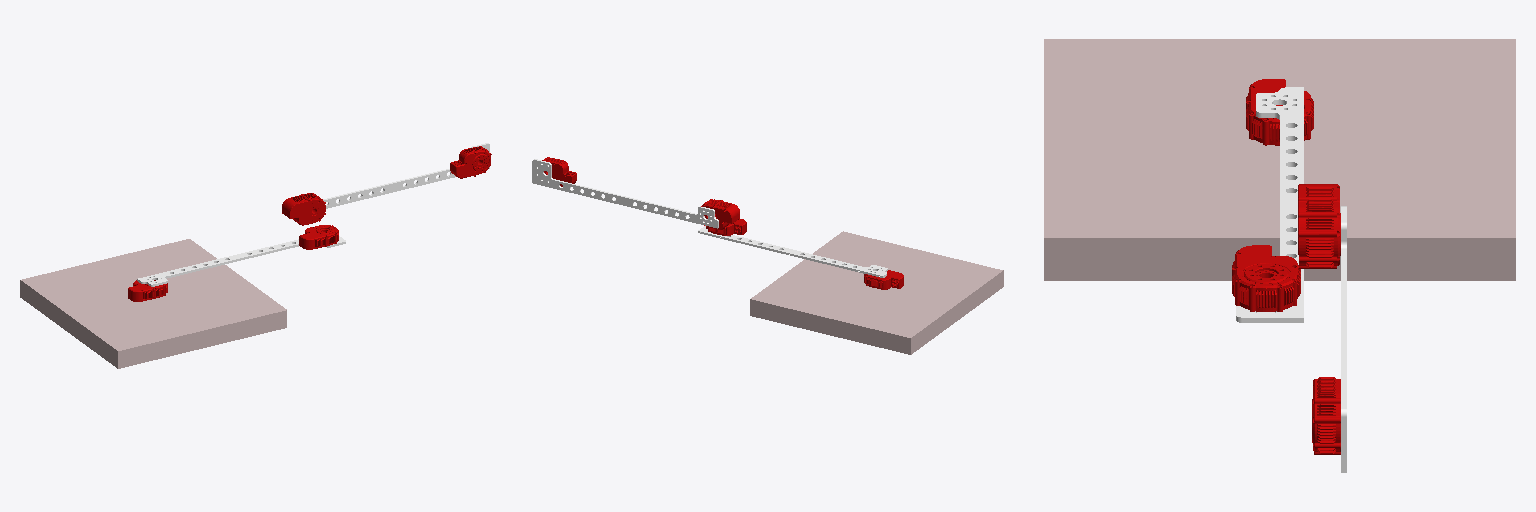
URDF robot description (arm):
<?xml version="1.0"?>

<robot name="arm">
  
  <!-- *************************************************** -->
  <!-- ******************** Kinematics ******************* -->
  <!-- *************************************************** -->
  <!-- Note the 'origin' tag in the fixed joints defines the shift and
       reorientation before the continuous joint rotates around the
       axis.  For shift distances see below. -->

  <link name="world"/>


  <joint name="connect-world-motor0base" type="fixed">
    <parent link="world"/>
    <child  link="motor0base"/>
    <origin xyz="0 0 0.00635" rpy="0 0 0"/>
  </joint>

  <link name="motor0base"/>

  <joint name="Red/7" type="continuous">
    <parent link="motor0base"/>
    <child  link="motor0output"/>
    <origin xyz="0 0 0.03105"/>
    <axis   xyz="0 0 1"/>
  </joint>

  <link name="motor0output"> </link>


  <joint name="connect-motor0output-motor1base" type="fixed">
    <parent link="motor0output"/>
    <child  link="motor1base"/>
    <origin xyz="0.49848 -0.01447 0.00635" rpy="0 0 0"/>
  </joint>

  <link name="motor1base"/>

  <joint name="Red/5" type="continuous">
    <parent link="motor1base"/>
    <child  link="motor1output"/>
    <origin xyz="0 0 0.03105"/>
    <axis   xyz="0 0 1"/>
  </joint>

  <link name="motor1output"> </link>


  <joint name="connect-motor1output-motor2base" type="fixed">
    <parent link="motor1output"/>
    <child  link="motor2base"/>
    <origin xyz="-0.01013 0.0341 0.03988" rpy="-1.57 0 0"/>
  </joint>

  <link name="motor2base"/>

  <joint name="Red/6" type="continuous">
    <parent link="motor2base"/>
    <child  link="motor2output"/>
    <origin xyz="0 0 0.04505"/>
    <axis   xyz="0 0 1"/>
  </joint>

  <link name="motor2output"> </link>


  <joint name="connect-motor2output-motor3base" type="fixed">
    <parent link="motor2output"/>
    <child  link="motor3base"/>
    <origin xyz="0.49848 -0.01447 0" rpy="3.14 0 0"/>
  </joint>

  <link name="motor3base"/>

  <joint name="Red/3" type="continuous">
    <parent link="motor3base"/>
    <child  link="motor3output"/>
    <origin xyz="0 0 0.03105"/>
    <axis   xyz="0 0 1"/>
  </joint>

  <link name="motor3output"> </link>

  <joint name="connect-motor3output-tip" type="fixed">
    <parent link="motor3output"/>
    <child  link="tip"/>
    <origin xyz="0 0 0.0225" rpy="0 0 0"/>
  </joint>

  <link name="tip"/>


  <!-- ******************** Materials ******************** -->

  <material name="white">    <color rgba="1.00 1.00 1.00 1"/>  </material>
  <material name="gray">     <color rgba="0.60 0.60 0.60 1"/>  </material>
  <material name="table">    <color rgba="0.85 0.77 0.77 1"/>  </material>

  <material name="hebired">  <color rgba="0.82 0.06 0.06 1"/>  </material>

  <material name="red">      <color rgba="1.00 0.00 0.00 1"/>  </material>
  <material name="green">    <color rgba="0.00 1.00 0.00 1"/>  </material>
  <material name="blue">     <color rgba="0.00 0.00 1.00 1"/>  </material>

  <material name="cyan">     <color rgba="0.00 1.00 1.00 1"/>  </material>
  <material name="magenta">  <color rgba="1.00 0.00 1.00 1"/>  </material>
  <material name="yellow">   <color rgba="1.00 1.00 0.00 1"/>  </material>


  <!-- ********************** Table ********************** -->

  <joint name="connect-world-table" type="fixed">
    <parent link="world"/>
    <child  link="table"/>
  </joint>

  <link name="table">
    <visual>
      <origin xyz="0 0 -0.025" rpy="0 0 0"/>
      <geometry>
	<box size="0.5 0.5 0.05"/>
      </geometry>
      <material name="table"/>
    </visual>
  </link>


  <!-- ********************** Motors ********************* -->

  <joint name="attach-motor0" type="fixed">
    <parent link="motor0base"/>
    <child  link="motor0"/>
  </joint>

  <link name="motor0">
    <visual>
      <origin xyz="0.035 0.0365 0" rpy="0 0 3.14"/>
      <geometry>
        <mesh filename="package://hw5code/arm/X5.STL" scale="0.001 0.001 0.001"/>
      </geometry>
      <material name="hebired"/>
    </visual>
  </link>

  <joint name="attach-motor1" type="fixed">
    <parent link="motor1base"/>
    <child  link="motor1"/>
  </joint>

  <link name="motor1">
    <visual>
      <origin xyz="0.035 0.0365 0" rpy="0 0 3.14"/>
      <geometry>
        <mesh filename="package://hw5code/arm/X5.STL" scale="0.001 0.001 0.001"/>
      </geometry>
      <material name="hebired"/>
    </visual>
  </link>

  <joint name="attach-motor2" type="fixed">
    <parent link="motor2base"/>
    <child  link="motor2"/>
  </joint>

  <link name="motor2">
    <visual>
      <origin xyz="0.035 0.0365 0" rpy="0 0 3.14"/>
      <geometry>
        <mesh filename="package://hw5code/arm/X8.STL" scale="0.001 0.001 0.001"/>
      </geometry>
      <material name="hebired"/>
    </visual>
  </link>

  <joint name="attach-motor3" type="fixed">
    <parent link="motor3base"/>
    <child  link="motor3"/>
  </joint>

  <link name="motor3">
    <visual>
      <origin xyz="0.035 0.0365 0" rpy="0 0 3.14"/>
      <geometry>
        <mesh filename="package://hw5code/arm/X5.STL" scale="0.001 0.001 0.001"/>
      </geometry>
      <material name="hebired"/>
    </visual>
  </link>

  <!-- ********************** Links  ********************* -->

  <joint name="connect-motor0output-link1part1" type="fixed">
    <parent link="motor0output"/>
    <child  link="link1part1"/>
  </joint>

  <link name="link1part1">
    <visual>
      <origin xyz="-0.035 0.025 0" rpy="1.57 0 0"/>
      <geometry>
        <mesh filename="package://hw5code/arm/arm1.STL" scale="0.001 0.001 0.001"/>
      </geometry>
      <material name="white"/>
    </visual>
  </link>


  <joint name="connect-motor2output-link3part1" type="fixed">
    <parent link="motor2output"/>
    <child  link="link3part1"/>
  </joint>

  <link name="link3part1">
    <visual>
      <origin xyz="-0.035 0.025 0" rpy="1.57 0 0"/>
      <geometry>
        <mesh filename="package://hw5code/arm/arm1.STL" scale="0.001 0.001 0.001"/>
      </geometry>
      <material name="white"/>
    </visual>
  </link>

</robot>

--- Render facts (derived) ---
The picture shows the robot from 3 angles, left to right: view 1: azimuth 30°, elevation 25°; view 2: azimuth 150°, elevation 25°; view 3: azimuth 270°, elevation 25°; orthographic projection.
Robot: arm — 17 links, 16 joints (4 continuous, 12 fixed); root link world; default pose: every joint at zero.
Links seen in each view (by area): view 1: table, link1part1, link3part1, motor2, motor3, motor1, motor0; view 2: table, link3part1, link1part1, motor2, motor0; view 3: table, link1part1, motor1, motor2, motor3, motor0, link3part1.
Boxes of the visible links, left/top/right/bottom form: table: left=20, top=239, right=286, bottom=368; link1part1: left=137, top=236, right=345, bottom=286; link3part1: left=314, top=143, right=489, bottom=208; motor2: left=282, top=193, right=325, bottom=225; motor3: left=450, top=146, right=491, bottom=178; motor1: left=299, top=225, right=338, bottom=249; motor0: left=128, top=280, right=167, bottom=301; table: left=750, top=231, right=1003, bottom=354; link3part1: left=532, top=159, right=718, bottom=228; link1part1: left=698, top=226, right=887, bottom=277; motor2: left=701, top=199, right=739, bottom=229; motor0: left=864, top=270, right=903, bottom=289; table: left=1044, top=39, right=1515, bottom=280; link1part1: left=1236, top=87, right=1303, bottom=322; motor1: left=1232, top=245, right=1300, bottom=311; motor2: left=1298, top=184, right=1340, bottom=268; motor3: left=1312, top=377, right=1340, bottom=454; motor0: left=1246, top=79, right=1313, bottom=145; link3part1: left=1341, top=206, right=1346, bottom=472.
Bounding box of the posed robot: 1.28 × 0.5 × 0.2158 m (x, y, z).
6 mesh visuals loaded from 3 distinct referenced files (3 binary STL).
